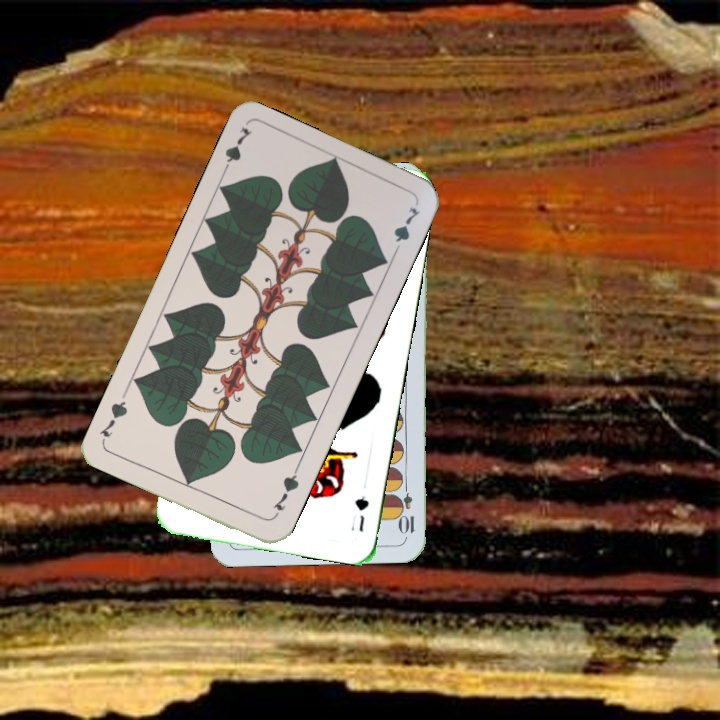E10: (398, 477, 417, 537)
G7: (217, 123, 255, 179), (269, 465, 301, 521)
GU: (347, 492, 372, 534)
